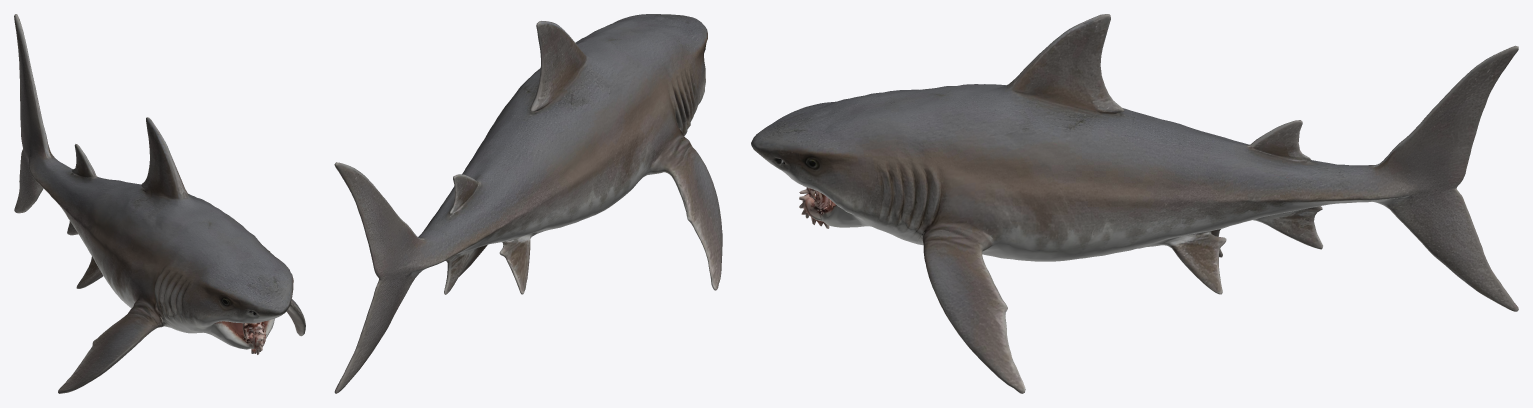
The model's file is helicoprion.preview.glb.
The picture shows the model from 3 angles, left to right: view 1: azimuth 30°, elevation 25°; view 2: azimuth 150°, elevation 25°; view 3: azimuth 270°, elevation 25°; orthographic projection. The views are drawn at different scales.
Parts seen in each view (by area): view 1: tripo_node_c9d033c1-de7b-41b4-827c-f380e4d50e7c.001; view 2: tripo_node_c9d033c1-de7b-41b4-827c-f380e4d50e7c.001; view 3: tripo_node_c9d033c1-de7b-41b4-827c-f380e4d50e7c.001.
Part boxes in pixels (x1,y1,x2,y2): tripo_node_c9d033c1-de7b-41b4-827c-f380e4d50e7c.001: (14,14,305,393); tripo_node_c9d033c1-de7b-41b4-827c-f380e4d50e7c.001: (334,14,722,393); tripo_node_c9d033c1-de7b-41b4-827c-f380e4d50e7c.001: (751,14,1518,393).
Bounding box in the file's own units: 0.49 × 0.4323 × 1.
1 material, 1 textured.
